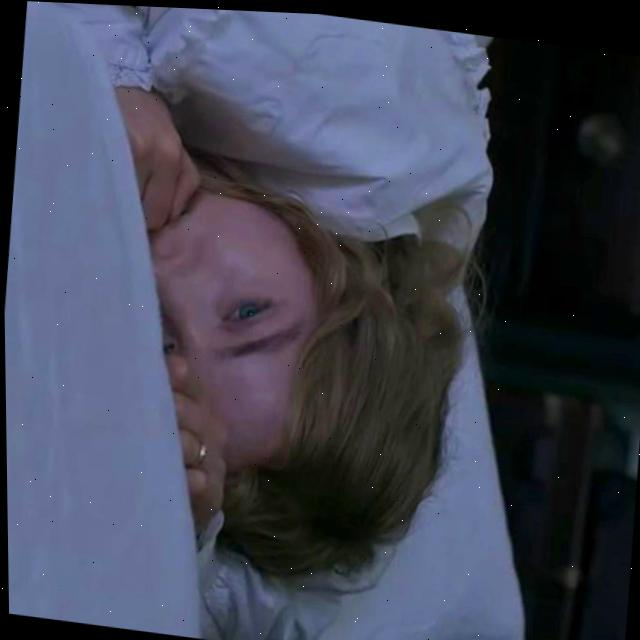sad: (131, 188, 291, 468)
